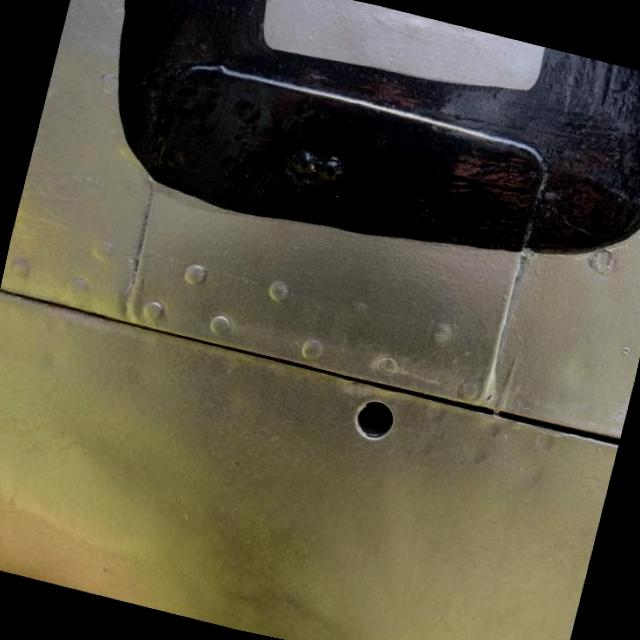Missing Fastener: (354, 396, 399, 444)
